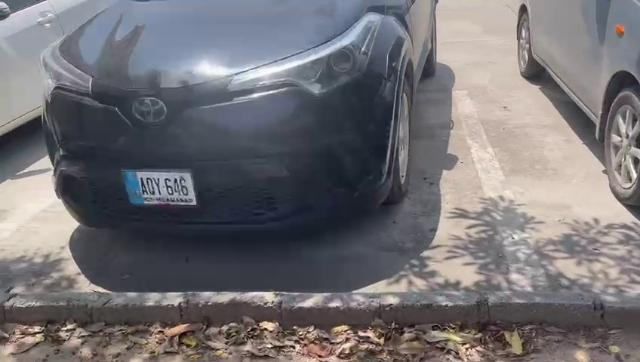plate: (121, 170, 201, 209)
